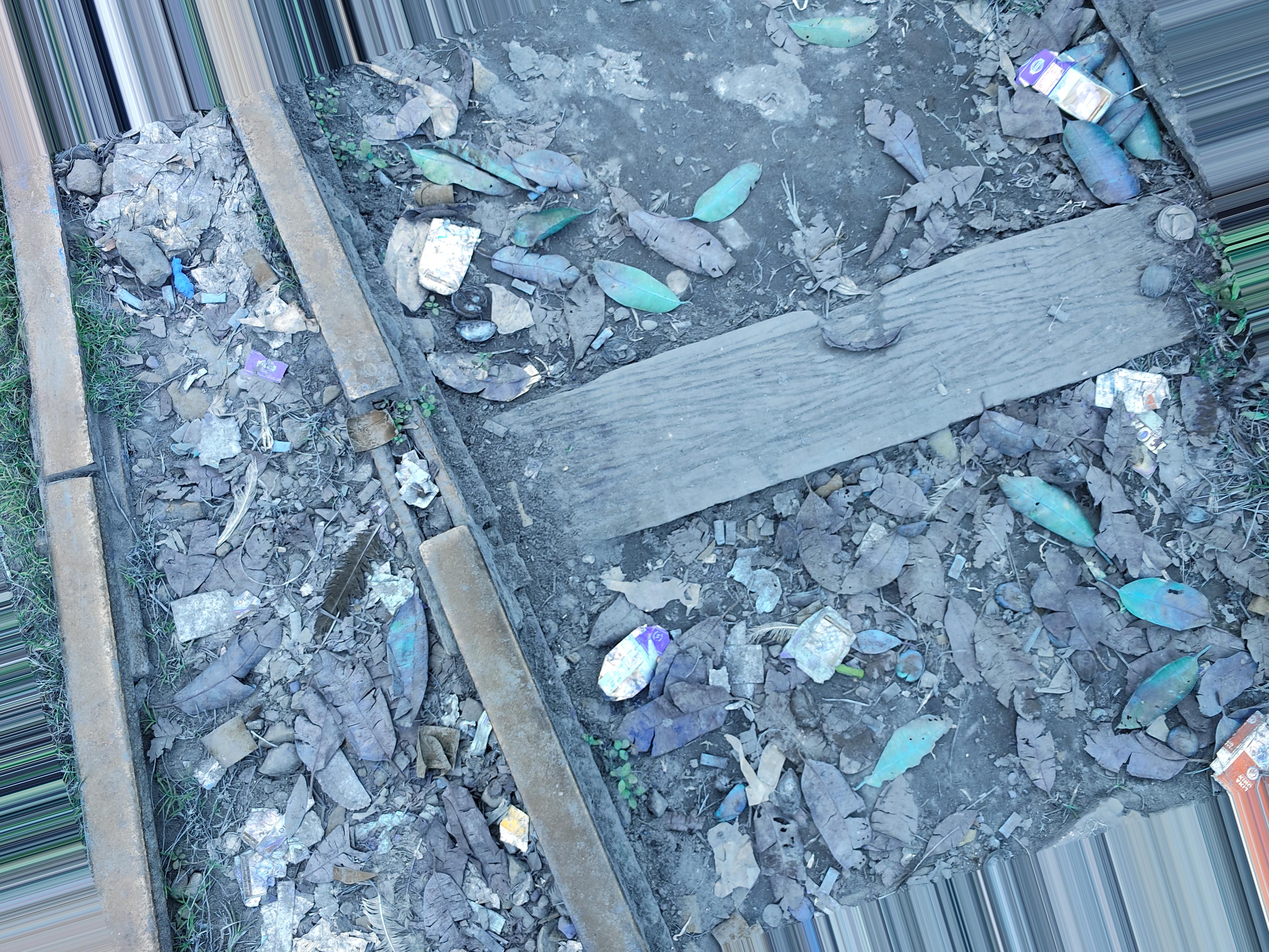tracks_fault: (335, 358, 483, 567)
